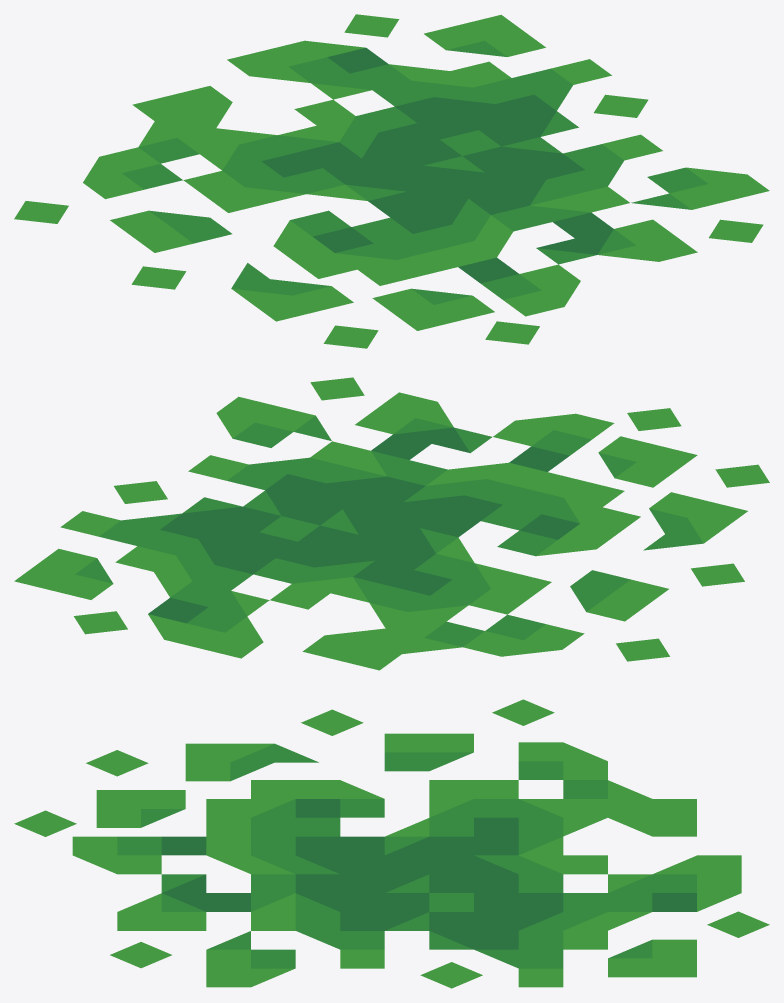
Rendered from waterDuckweed1.fbx.
The picture shows the model from 3 angles, top to bottom: view 1: azimuth 30°, elevation 25°; view 2: azimuth 150°, elevation 25°; view 3: azimuth 270°, elevation 25°; orthographic projection.
Parts seen in each view (by area): view 1: duckweed; view 2: duckweed; view 3: duckweed.
Part boxes in pixels (x1=…): duckweed: x1=14, y1=14, x2=769, y2=348; duckweed: x1=14, y1=377, x2=769, y2=670; duckweed: x1=14, y1=699, x2=769, y2=988.
Size of the model in its own units: 179 by 0 by 198.
